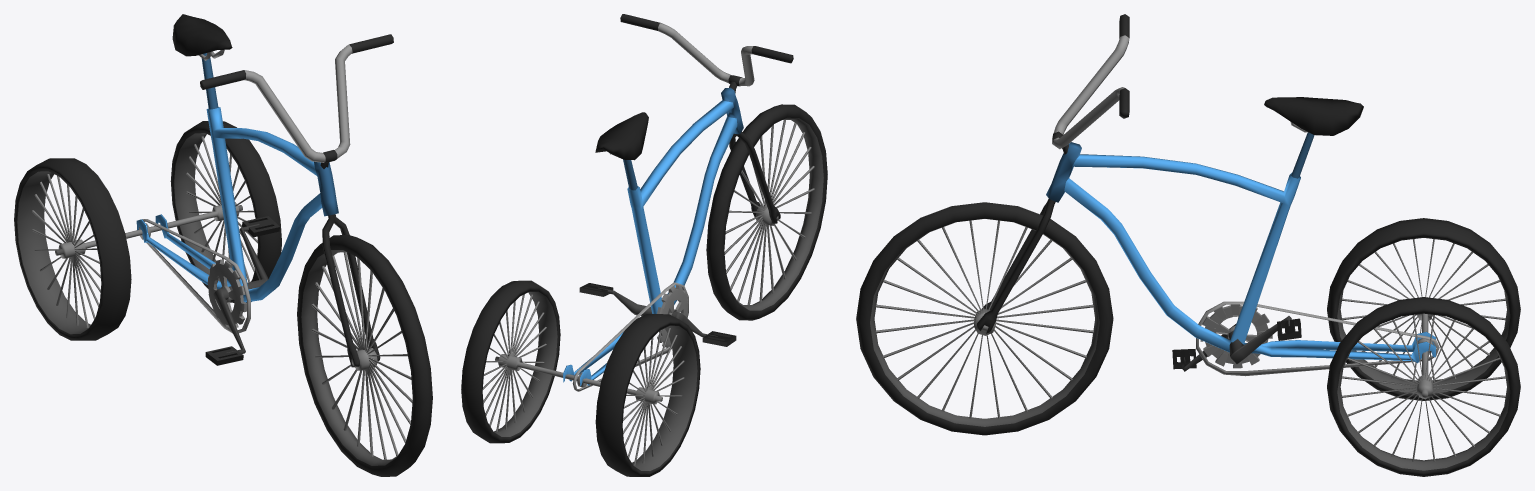
File: PP_Tricycle.fbx
The picture shows the model from 3 angles, left to right: view 1: azimuth 30°, elevation 25°; view 2: azimuth 150°, elevation 25°; view 3: azimuth 270°, elevation 25°; orthographic projection. The views are drawn at different scales.
Parts seen in each view (by area): view 1: wheel2, body, wheel1, pedal; view 2: wheel2, body, wheel1, pedal; view 3: wheel2, body, wheel1, pedal.
Boxes of the visible parts, x1=… form: wheel2: x1=14, y1=121, x2=281, y2=340; body: x1=136, y1=14, x2=393, y2=367; wheel1: x1=297, y1=235, x2=432, y2=476; pedal: x1=205, y1=216, x2=279, y2=365; wheel2: x1=461, y1=280, x2=700, y2=476; body: x1=563, y1=14, x2=793, y2=391; wheel1: x1=706, y1=104, x2=827, y2=320; pedal: x1=579, y1=283, x2=736, y2=347; wheel2: x1=1327, y1=218, x2=1520, y2=476; body: x1=977, y1=14, x2=1439, y2=376; wheel1: x1=856, y1=202, x2=1113, y2=435; pedal: x1=1172, y1=304, x2=1301, y2=371.
Bounding box in the file's own units: 72.82 × 133 × 212.
